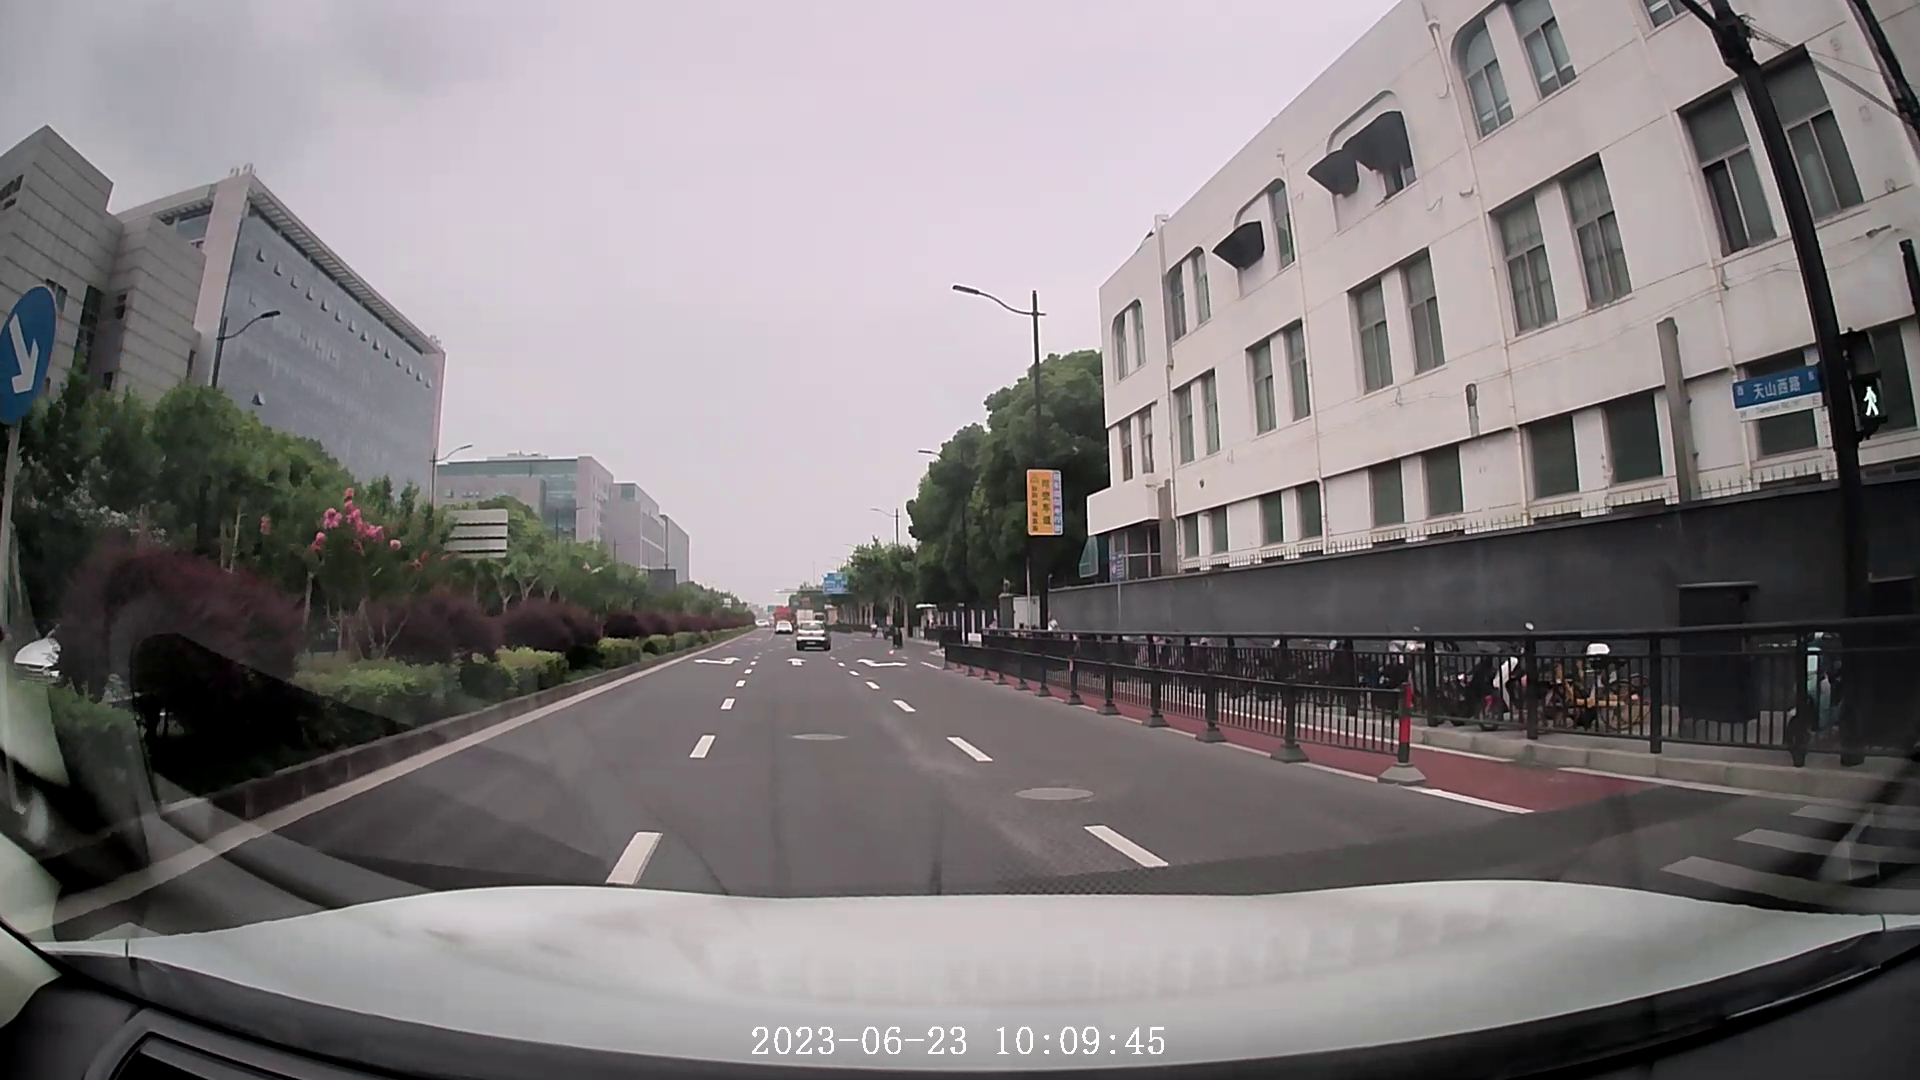SA: (785, 655, 806, 667)
SLA: (694, 653, 741, 666)
SRA: (855, 657, 909, 669)
